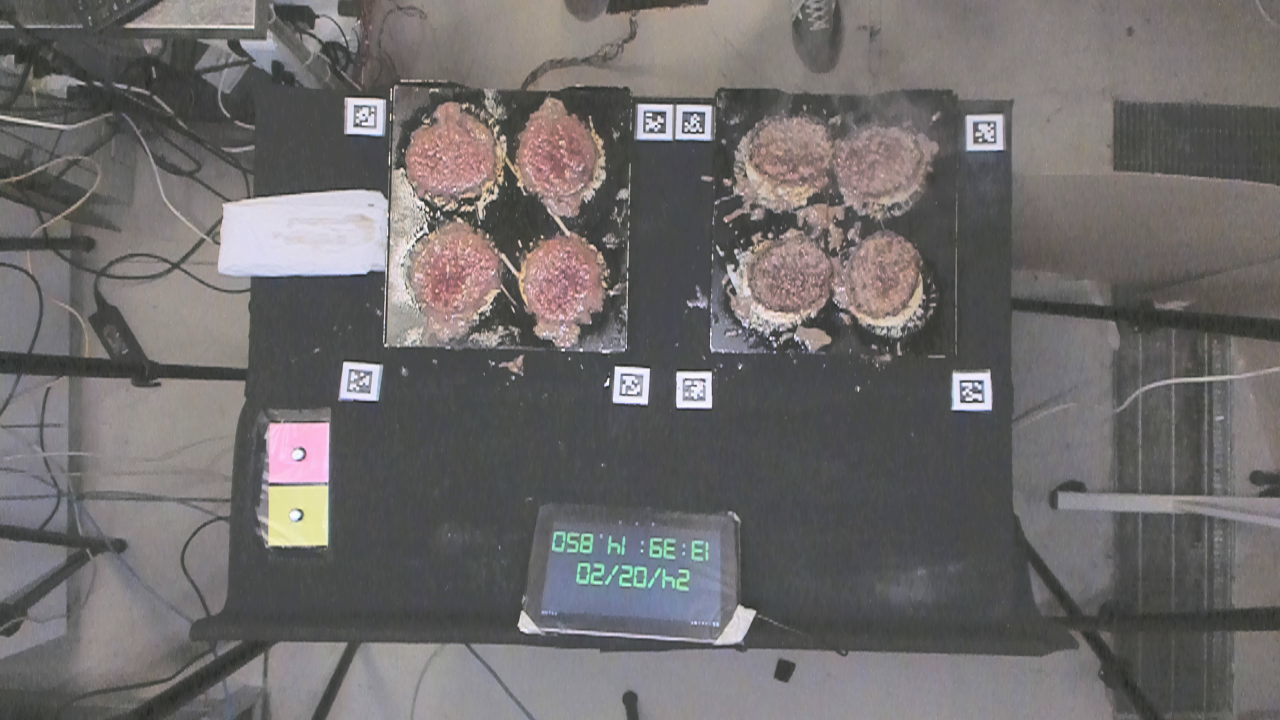hamburger: (399, 225, 510, 316), (407, 105, 502, 205), (831, 235, 933, 322), (512, 111, 607, 201), (742, 229, 829, 321), (830, 126, 928, 204), (524, 230, 607, 320), (743, 107, 830, 186)
marker: (266, 421, 333, 484)
